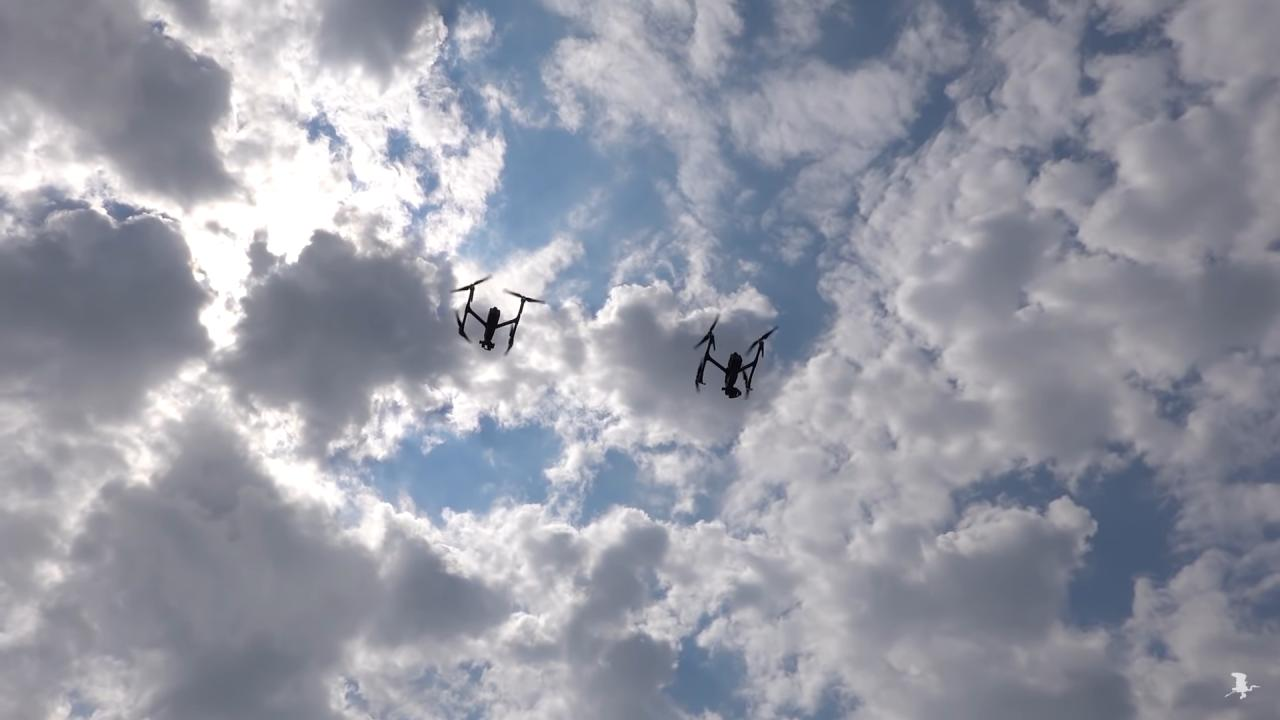Drone: (680, 304, 788, 416), (438, 268, 556, 368)
